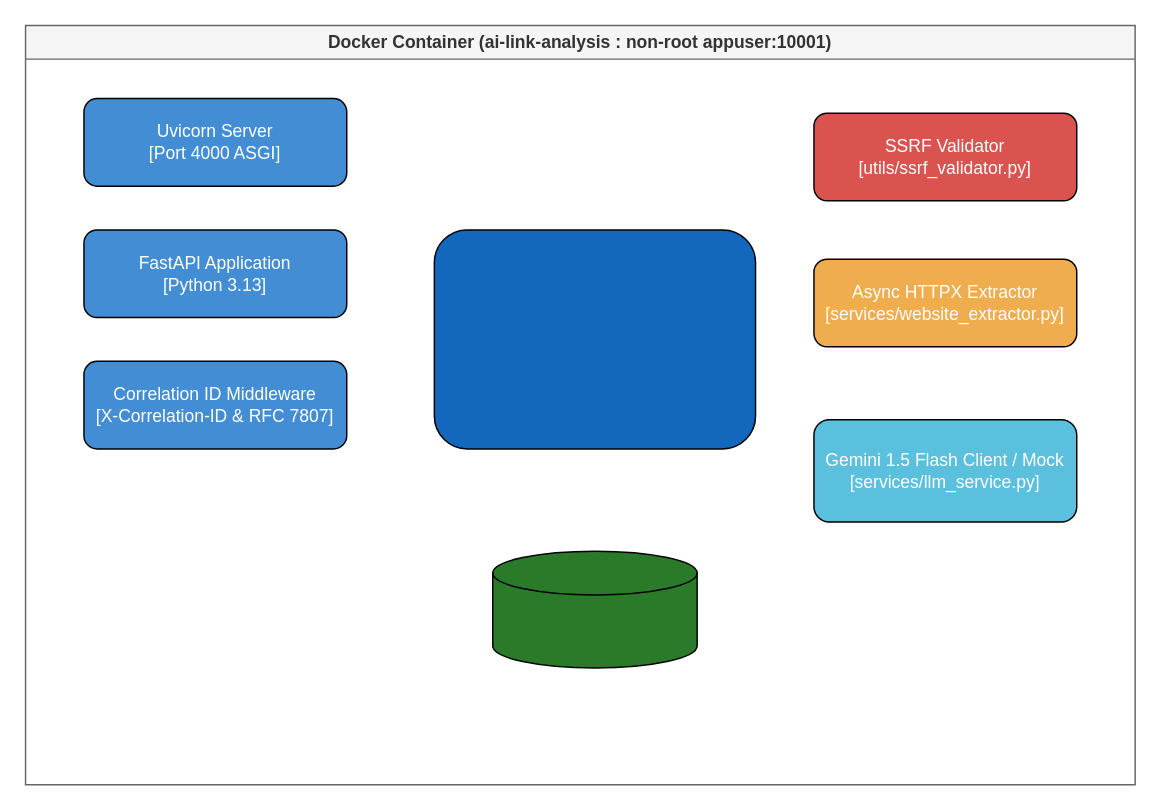
Some shapes in this 1161 by 810 pixel diagram are drawn without their labels. Here are the shapes that lost their labels. From the top down, the centre of each, then its label:
At (594,338): "Analysis Orchestrator [services/analysis_orchestrator.py]".
At (594,609): "SHA-256 URL Cache [24h TTL Store]".
